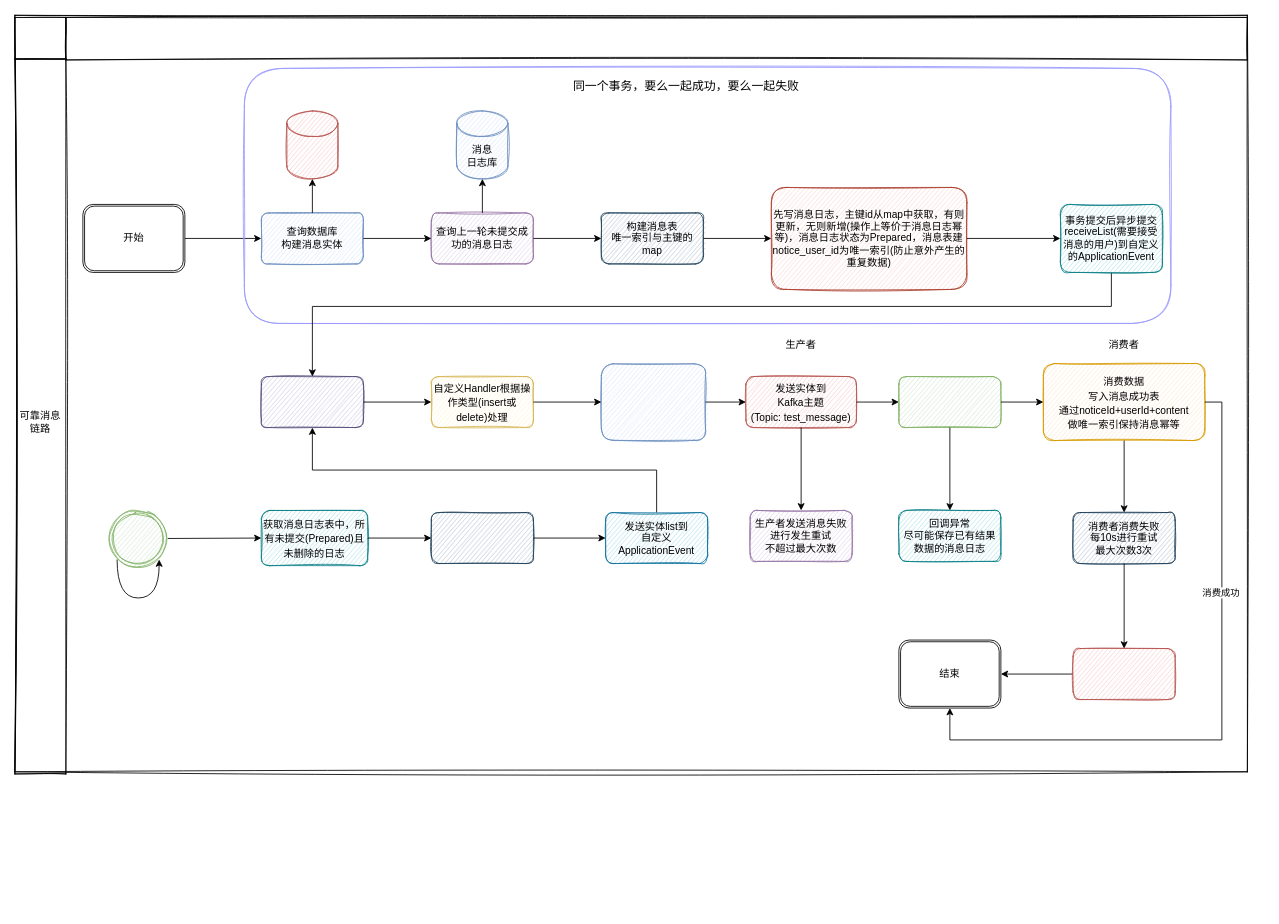
Image size: 1279x924. Some labels were removed from this diagram. Each missing label, with the centre of its shape:
"Kafka回调 更改消息表状态为Commit" belongs at (x=949, y=402).
"Listener监听到异步事件，线程池多线程处理监听事件" belongs at (x=312, y=402).
"分布式 定时任务" belongs at (x=138, y=538).
"构建消息成功实体 包含发送用户 准备往发送成功表写入" belongs at (x=653, y=401).
"消息 实体库" belongs at (x=312, y=144).
"站内信设计核心链路" belongs at (x=656, y=38).
"超过重试最大次数 加入死信队列 人工干预处理" belongs at (x=1123, y=674).
"重新构建insert和delete的消息实体" belongs at (x=482, y=538).
